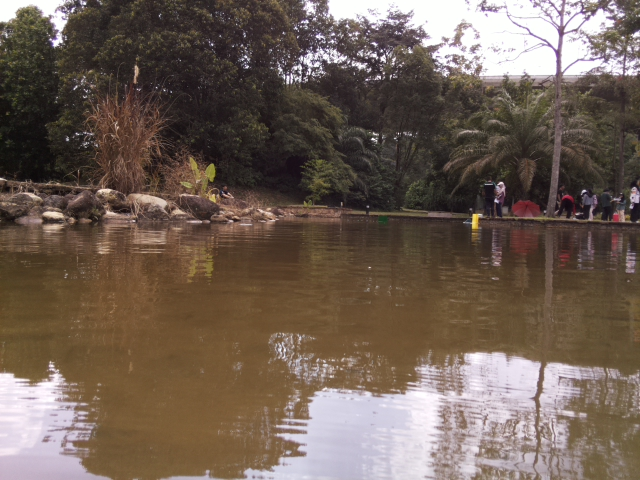obstacle: (378, 214, 390, 223)
